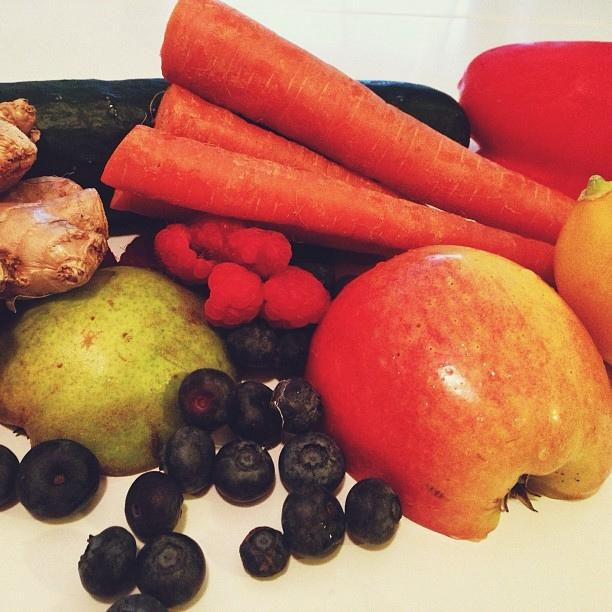apple: (303, 244, 612, 540)
bell pepper: (456, 41, 612, 200)
blueberry: (15, 438, 100, 518), (134, 532, 206, 608), (282, 486, 344, 560), (124, 471, 186, 543), (278, 431, 345, 494), (213, 438, 276, 504), (78, 526, 136, 596), (344, 477, 403, 545), (161, 426, 215, 496), (228, 380, 282, 447), (178, 368, 236, 430), (269, 378, 324, 434), (226, 316, 282, 368), (240, 526, 290, 578), (272, 328, 314, 379), (296, 258, 336, 296), (1, 444, 20, 512), (106, 594, 170, 612), (330, 276, 358, 302)
carrot: (160, 0, 574, 244), (100, 122, 556, 284), (152, 83, 438, 208), (111, 189, 407, 258)
cucumber: (0, 78, 473, 228)
lemon: (553, 174, 612, 366)
pear: (1, 266, 235, 476)
raspberry: (262, 265, 331, 331), (204, 262, 264, 328), (154, 224, 217, 284), (222, 228, 292, 282)
